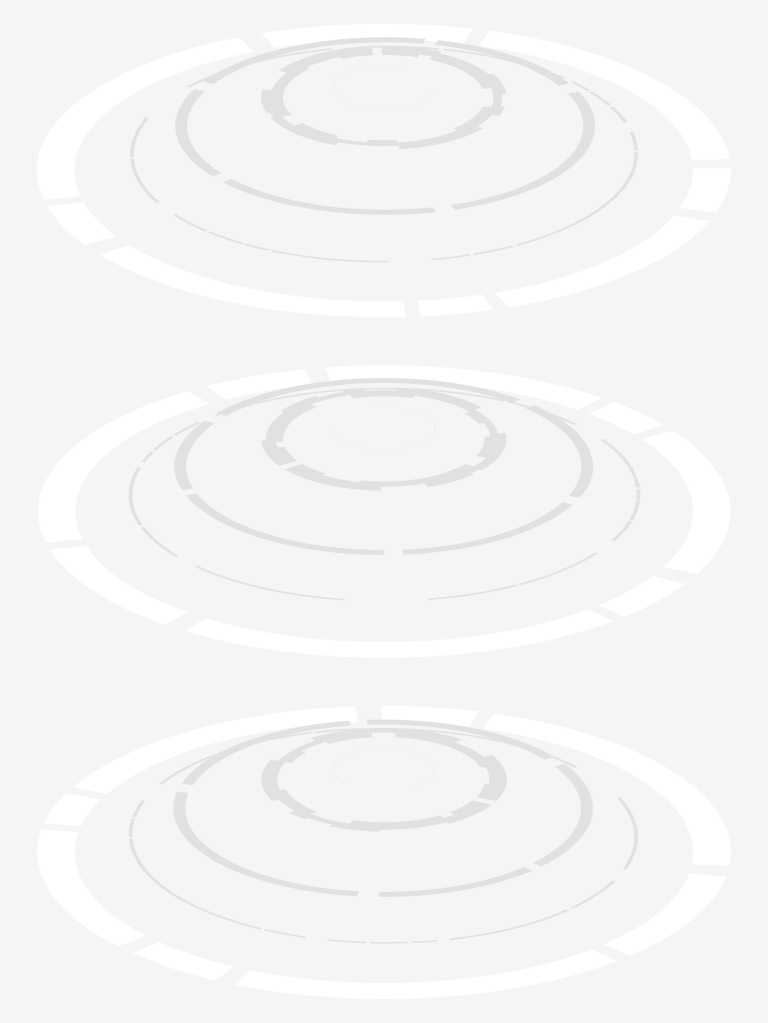
The picture shows the model from 3 angles, top to bottom: view 1: azimuth 30°, elevation 25°; view 2: azimuth 150°, elevation 25°; view 3: azimuth 270°, elevation 25°; orthographic projection.
Parts seen in each view (by area): view 1: Circle, Circle.003, Circle.002, Circle.001; view 2: Circle, Circle.003, Circle.002, Circle.001; view 3: Circle, Circle.003, Circle.002, Circle.001.
Part boxes in pixels (x1=…): Circle: x1=36, y1=23, x2=730, y2=317; Circle.003: x1=175, y1=37, x2=595, y2=214; Circle.002: x1=261, y1=45, x2=506, y2=148; Circle.001: x1=130, y1=46, x2=638, y2=262; Circle: x1=37, y1=365, x2=730, y2=657; Circle.003: x1=174, y1=378, x2=593, y2=554; Circle.002: x1=261, y1=387, x2=506, y2=490; Circle.001: x1=128, y1=387, x2=640, y2=600; Circle: x1=37, y1=706, x2=730, y2=998; Circle.003: x1=173, y1=719, x2=592, y2=896; Circle.002: x1=261, y1=727, x2=506, y2=831; Circle.001: x1=128, y1=728, x2=638, y2=943.
Size of the model in its own units: 2.67 by 0.3307 by 2.67.
Materials: 5 (5 with a texture image).
